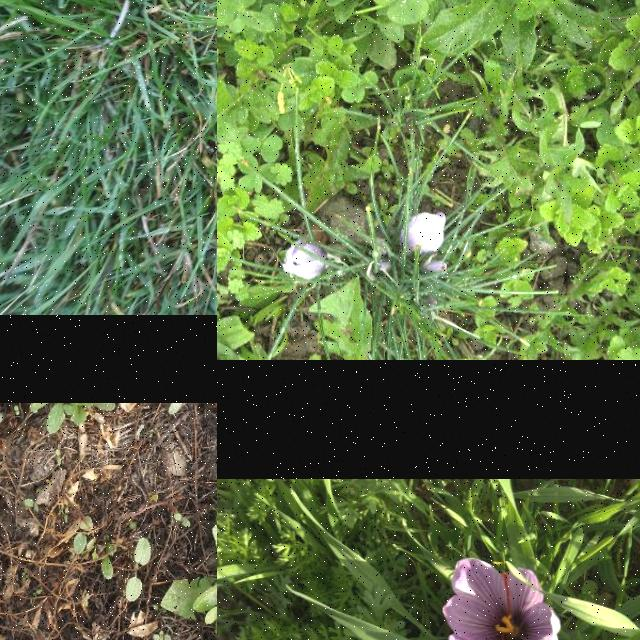flower: (442, 557, 561, 640), (399, 212, 446, 254), (283, 240, 327, 280)
